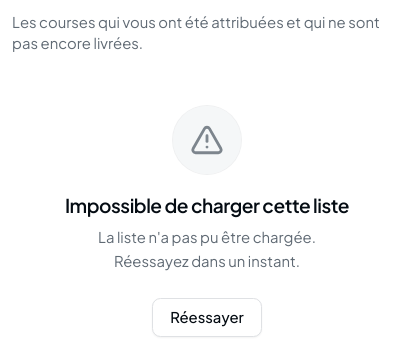
Test: ActiveTripsPanel › says the list failed, and tries again on « Réessayer »
The width and height of the screenshot is (402, 357).
Expected: the heading "Impossible de charger cette liste" is shown, [65,190,349,220]
Click the button "Réessayer": point(207, 317) [152,298,262,337]
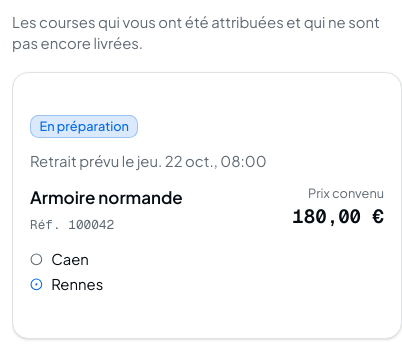
Expected: the text "Armoire normande" is shown, [30,185,183,210]
